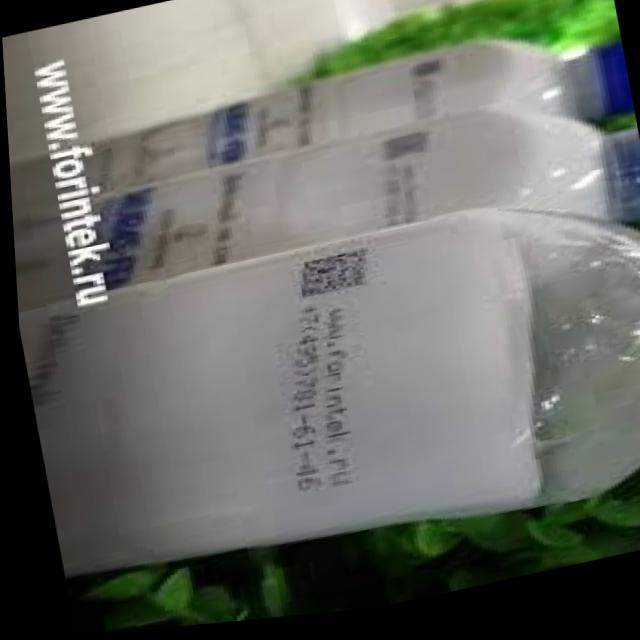datamatrix: (279, 248, 379, 313), (372, 134, 438, 176), (405, 62, 448, 93)
